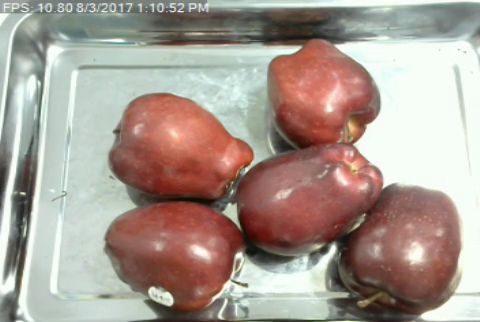Apple: (235, 141, 386, 259), (334, 181, 464, 313), (102, 198, 249, 314), (107, 90, 255, 203), (264, 34, 383, 151)
